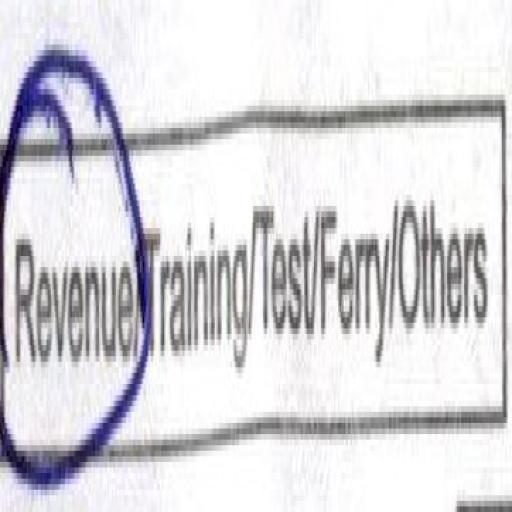check: (0, 2, 146, 498)
